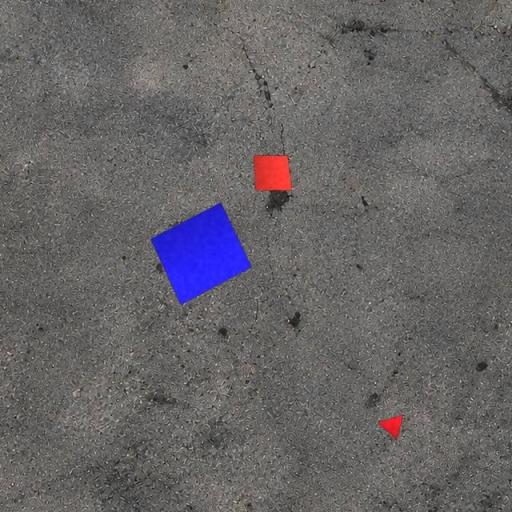BLUE_SQUARE: (150, 202, 252, 306)
RED_SQUARE: (253, 154, 293, 192)
